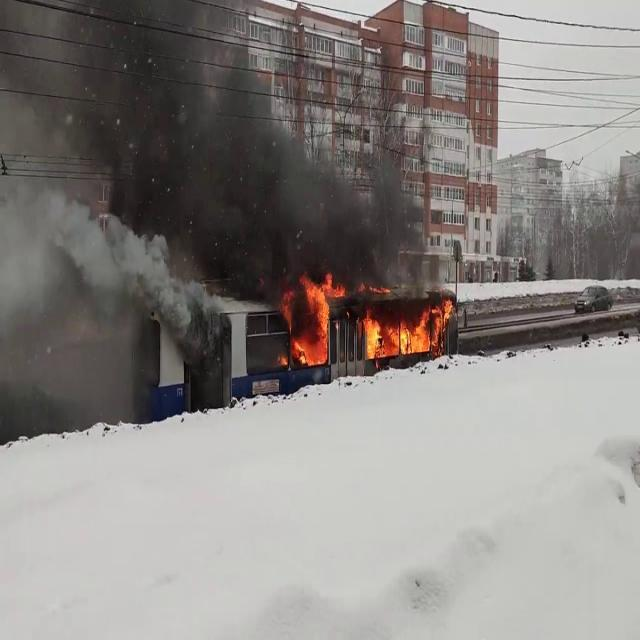Fire: (359, 290, 455, 360), (284, 271, 334, 366)
Smoke: (1, 1, 433, 294), (0, 6, 214, 413), (140, 90, 436, 290)
